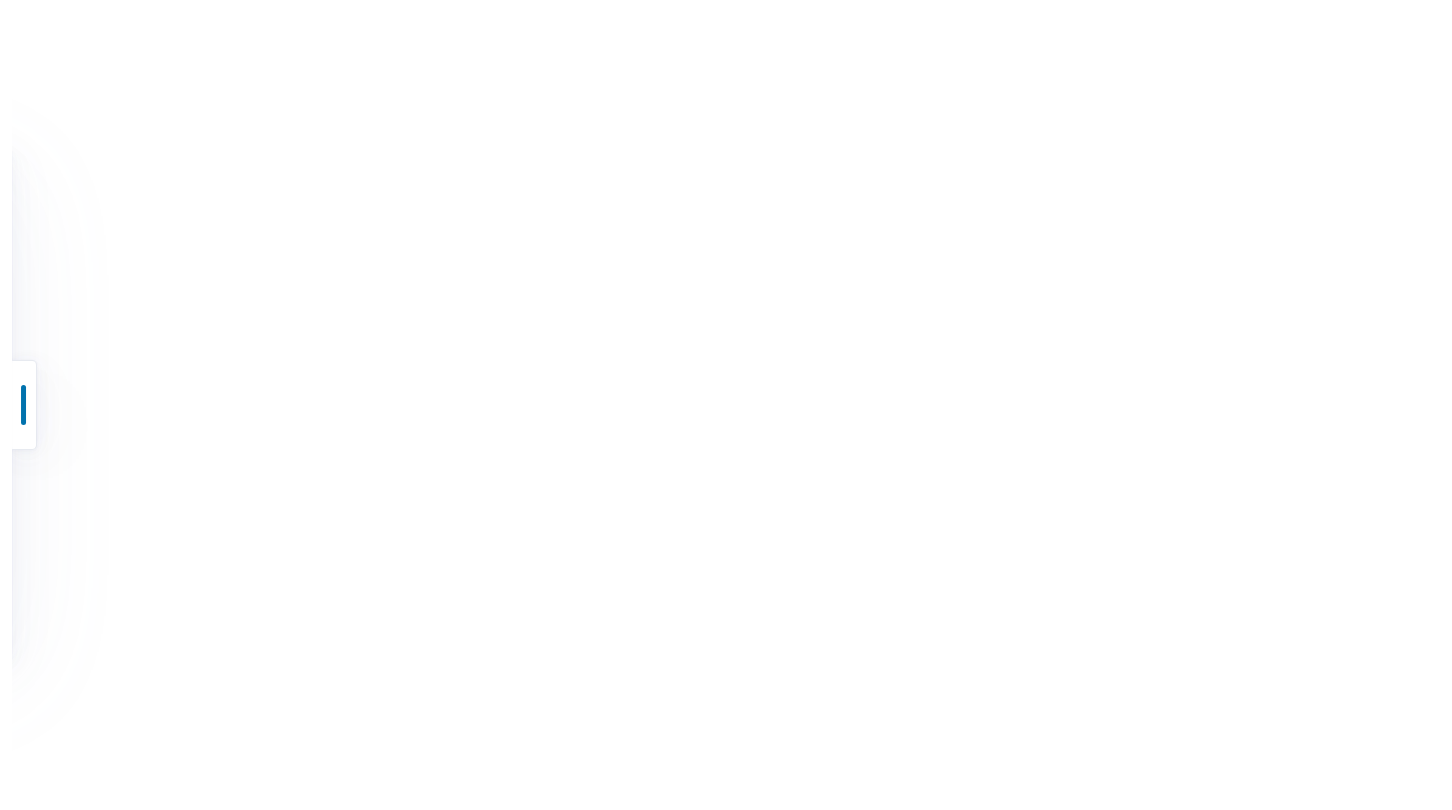
Test case: SideNav › closes on Escape, on a press outside, and after picking a section
Press Enter
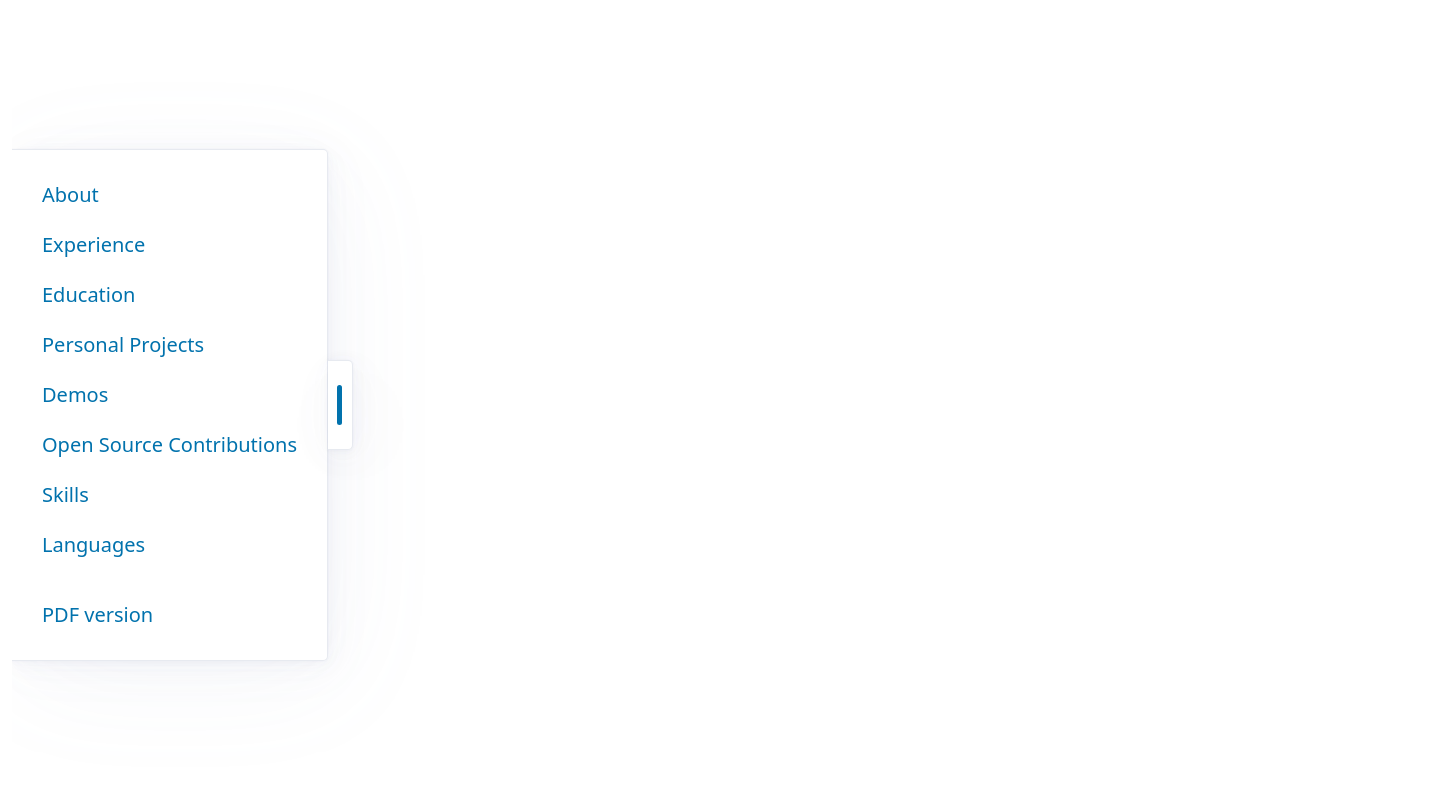
Expected: the button named "sections" is expanded, x1=328 y1=360 x2=353 y2=450
Press Escape
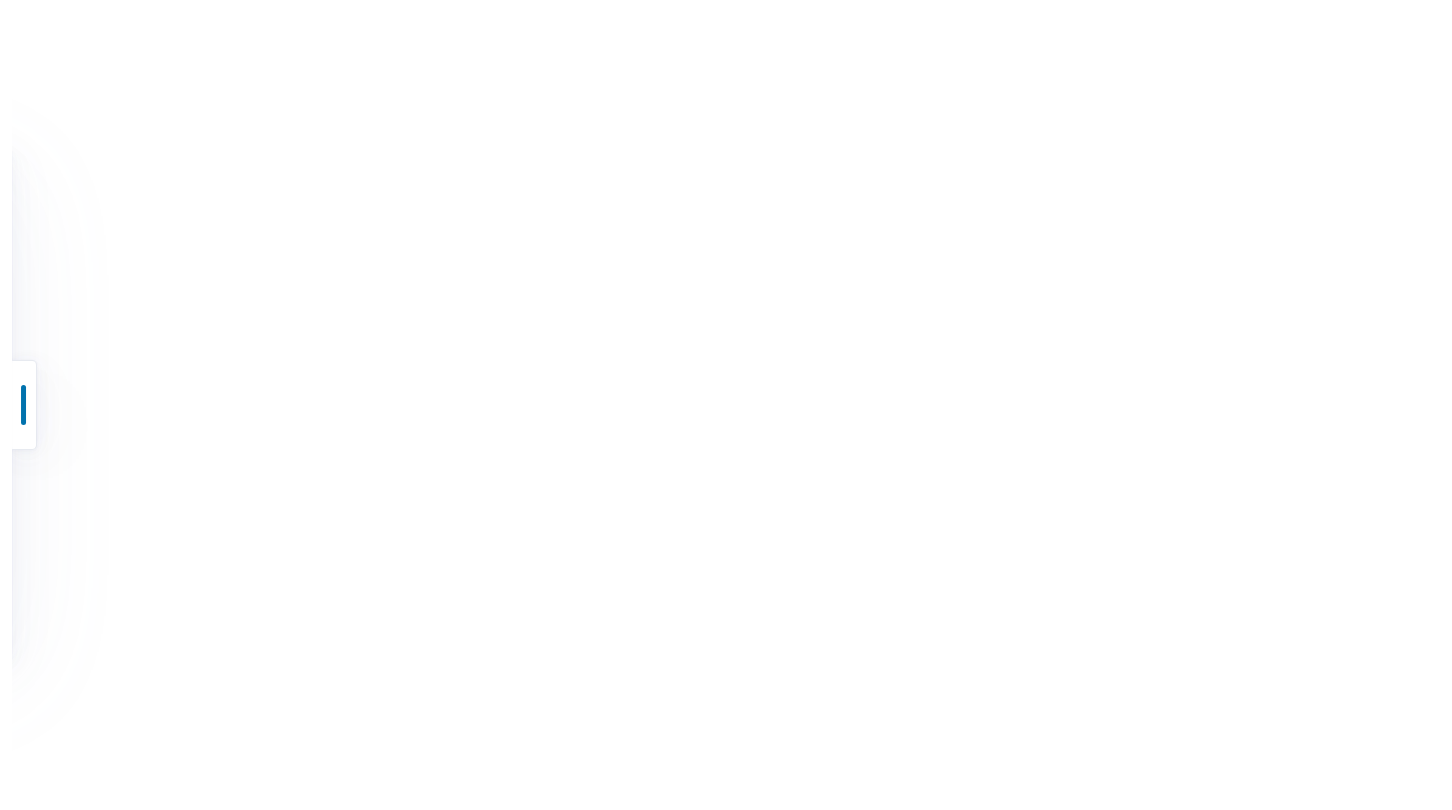
Expected: the button named "sections" is collapsed, x1=12 y1=360 x2=37 y2=450
Press Enter
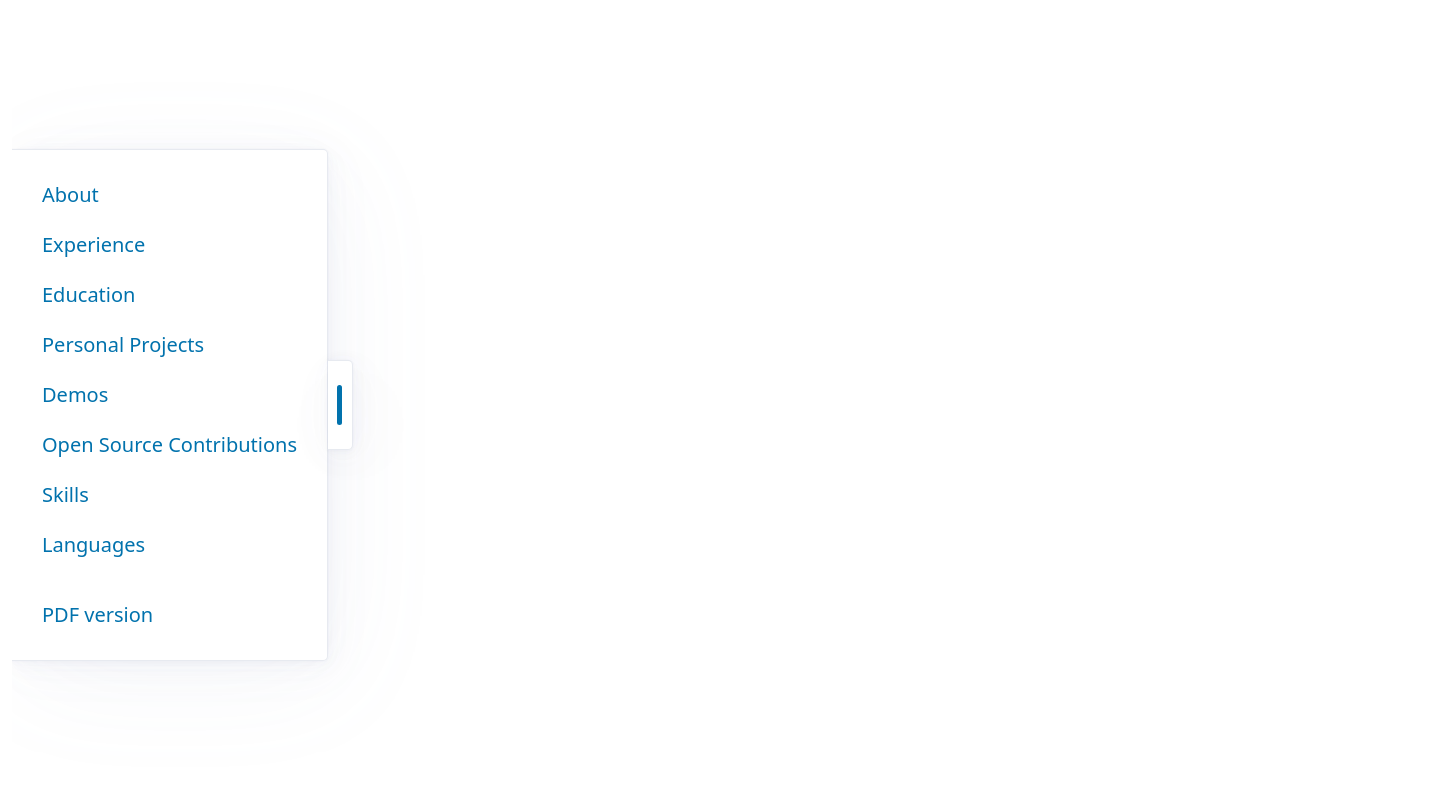
Expected: the button named "sections" is expanded, x1=328 y1=360 x2=353 y2=450
Press the mouse on the element that starts with "About": coordinates (732, 405) x1=12 y1=0 x2=1451 y2=809
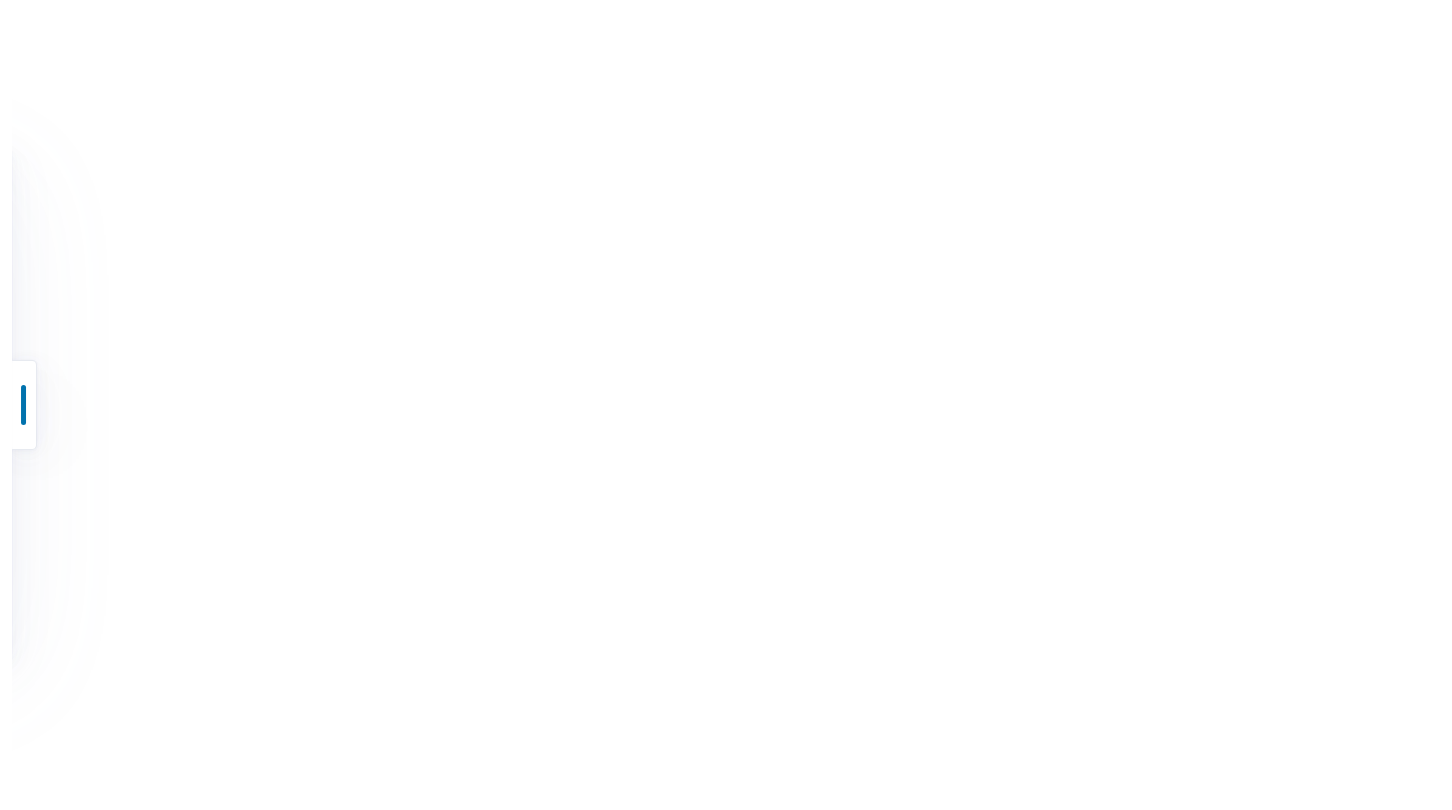
Expected: the button named "sections" is collapsed, x1=12 y1=360 x2=37 y2=450
Press Enter
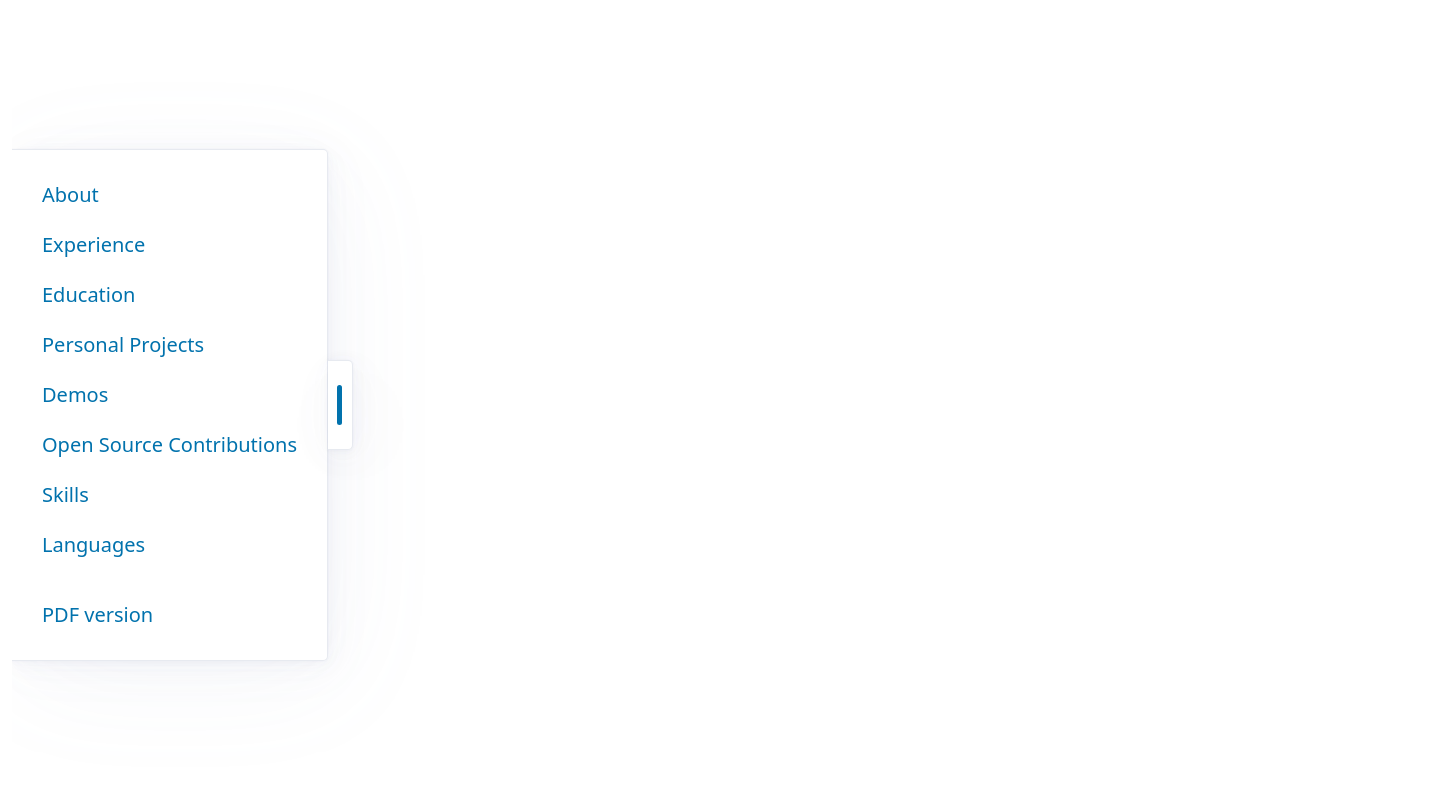
Expected: the button named "sections" is expanded, x1=328 y1=360 x2=353 y2=450
Click the link "Skills": coordinates (65, 494) x1=42 y1=481 x2=89 y2=508
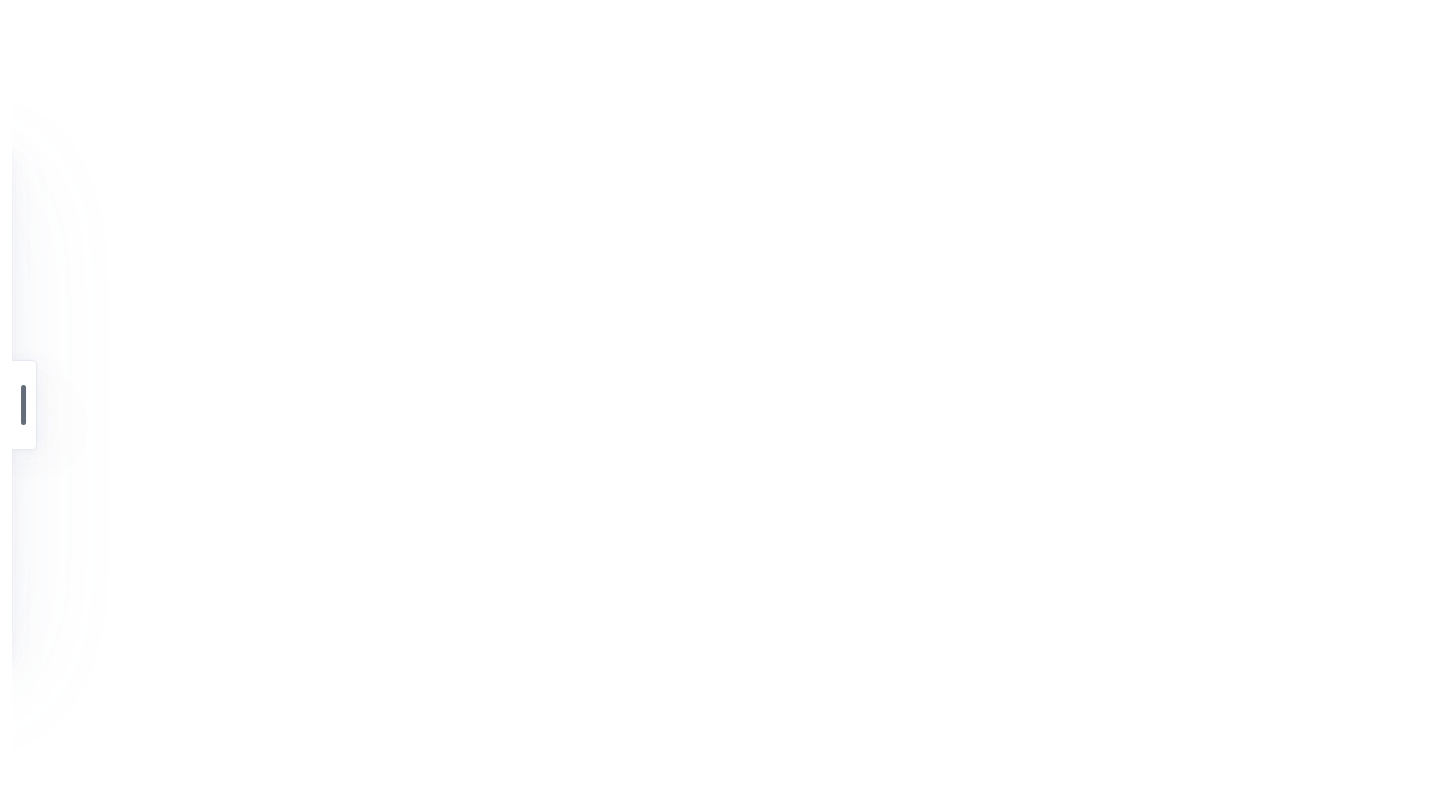
Expected: the button named "sections" is collapsed, x1=12 y1=360 x2=37 y2=450
